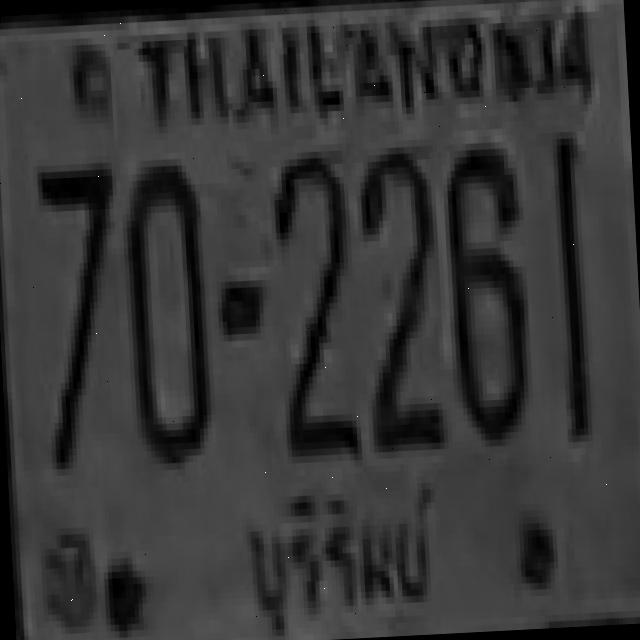0: (119, 158, 209, 458)
1: (550, 132, 591, 436)
2: (270, 147, 356, 454), (354, 143, 440, 450)
6: (440, 135, 530, 435)
7: (32, 156, 122, 463), (32, 156, 118, 370)
Buriram: (234, 478, 440, 632)
